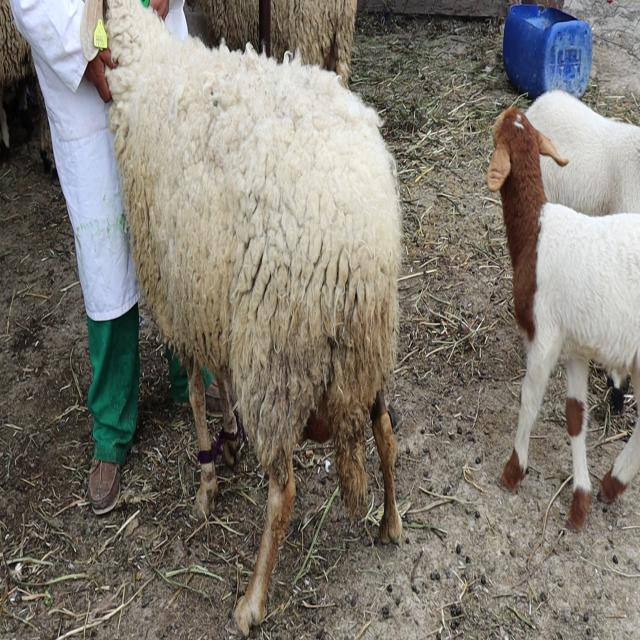Score_4: (106, 0, 402, 636)
